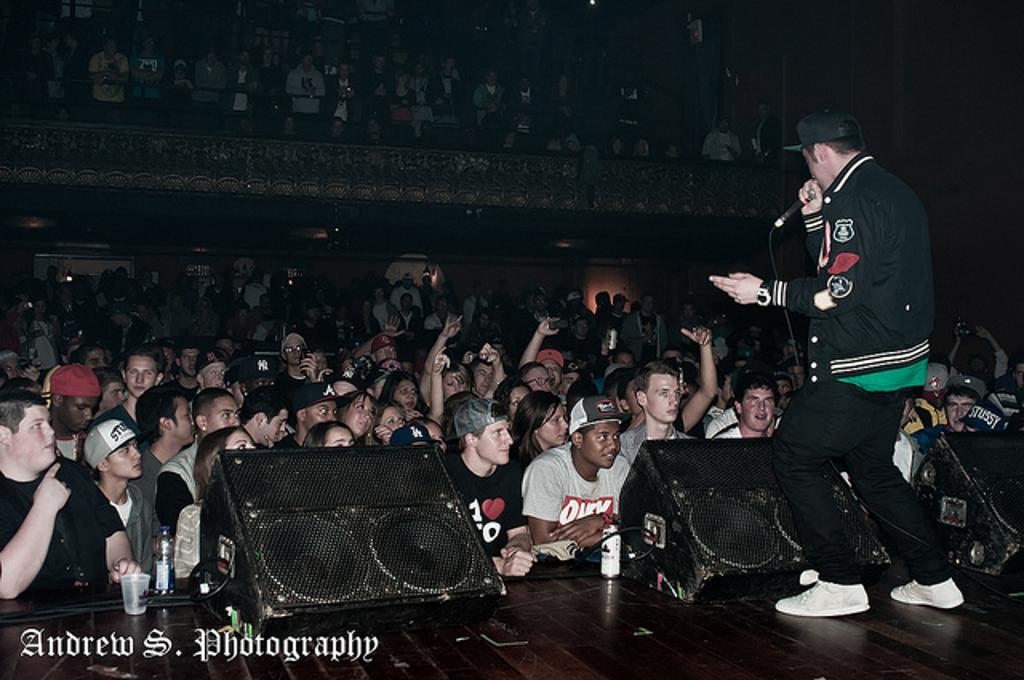face: (14, 406, 56, 466), (223, 433, 259, 493), (474, 416, 513, 465), (103, 437, 142, 478), (647, 374, 679, 422), (324, 430, 356, 478), (586, 421, 619, 467), (62, 390, 97, 431), (207, 397, 239, 441), (802, 144, 832, 190), (417, 423, 447, 469), (307, 396, 337, 441), (743, 386, 773, 430), (344, 394, 374, 437), (945, 392, 975, 432), (126, 357, 155, 398), (538, 404, 567, 444), (333, 381, 360, 423), (170, 397, 194, 443), (260, 408, 288, 447), (251, 376, 279, 415), (380, 408, 407, 447), (84, 352, 108, 392), (508, 387, 533, 424), (102, 380, 125, 420), (523, 370, 550, 403), (201, 361, 227, 392), (474, 360, 496, 396), (567, 394, 593, 424), (443, 372, 466, 405), (538, 360, 560, 389), (662, 350, 683, 379), (395, 382, 416, 410), (715, 371, 731, 406), (562, 373, 581, 399), (284, 337, 303, 363), (181, 350, 200, 376), (375, 347, 396, 369), (787, 365, 805, 390), (617, 353, 634, 379), (772, 380, 791, 403), (158, 347, 174, 374), (2, 359, 17, 385), (472, 349, 488, 373), (217, 340, 231, 364), (782, 346, 796, 365), (1014, 364, 1024, 389), (734, 362, 747, 381)
